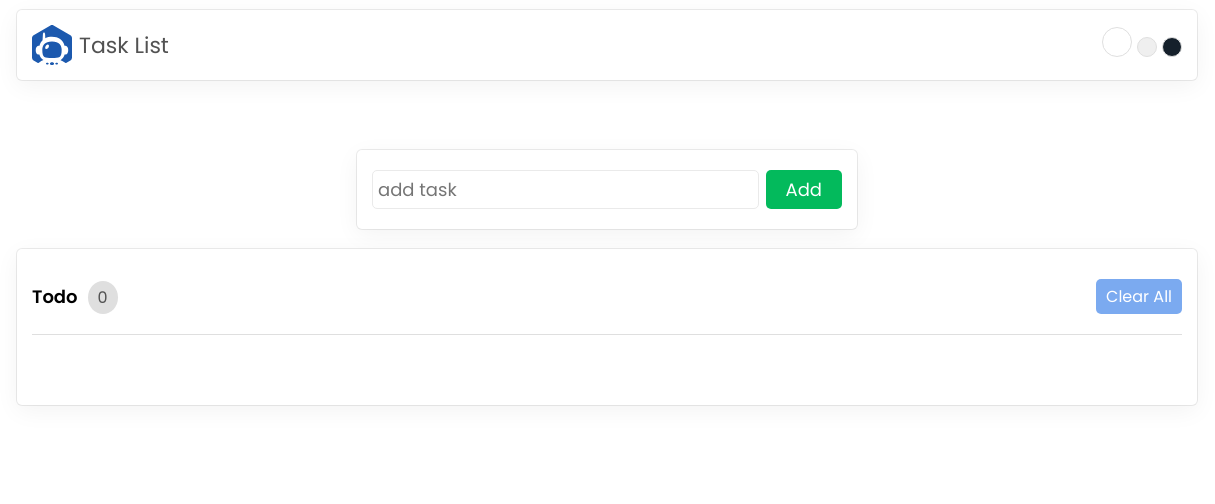
App component › will remove task
The width and height of the screenshot is (1215, 504).
Step 1. Type "test task" into the field with test id "input" → (565, 190), box [372, 170, 758, 209]
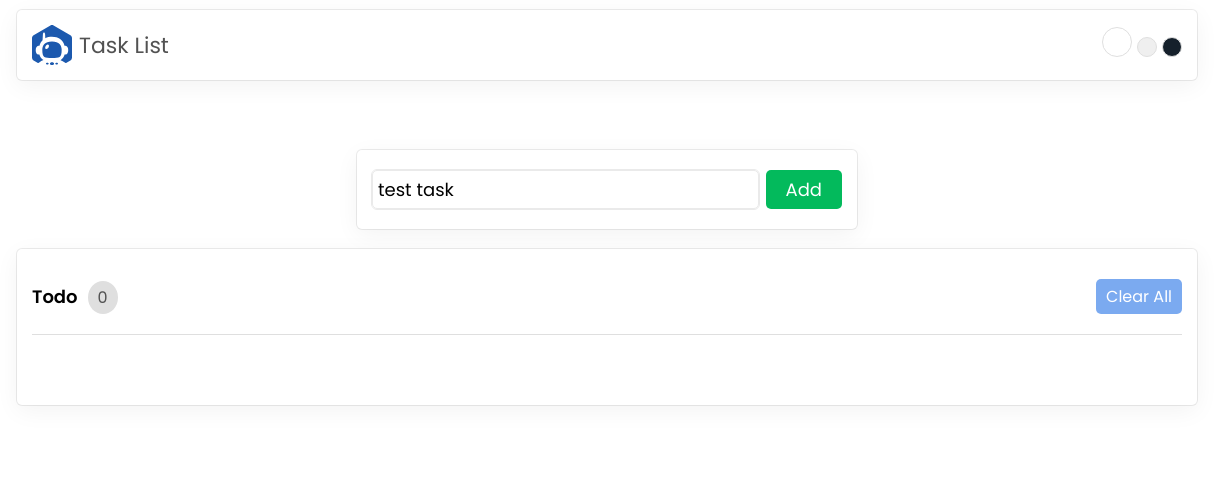
Step 2. Click the button "Add" → (804, 190), box [766, 170, 842, 209]
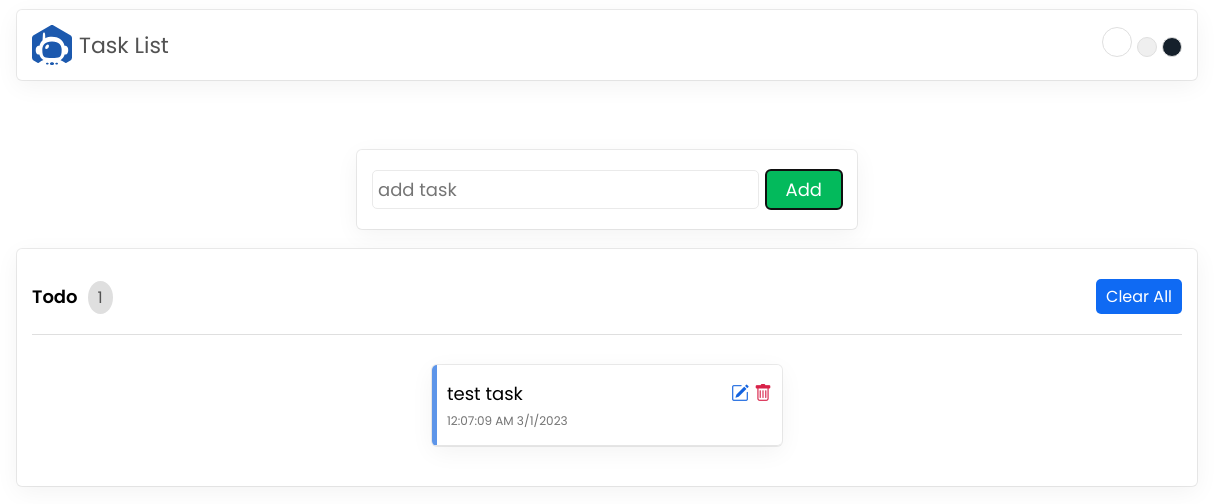
Expected: the text with test id "task-name" reads "test task", [447, 381, 523, 406]
Step 3. Click the icon with test id "remove-task" → (763, 405), box [754, 380, 772, 430]
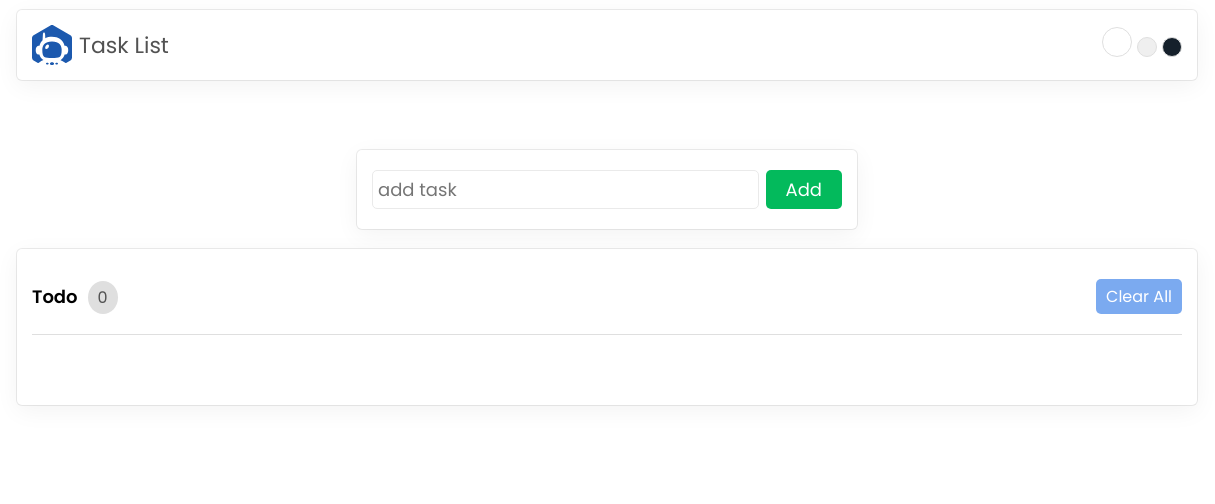
Expected: the text with test id "task-name" is gone
